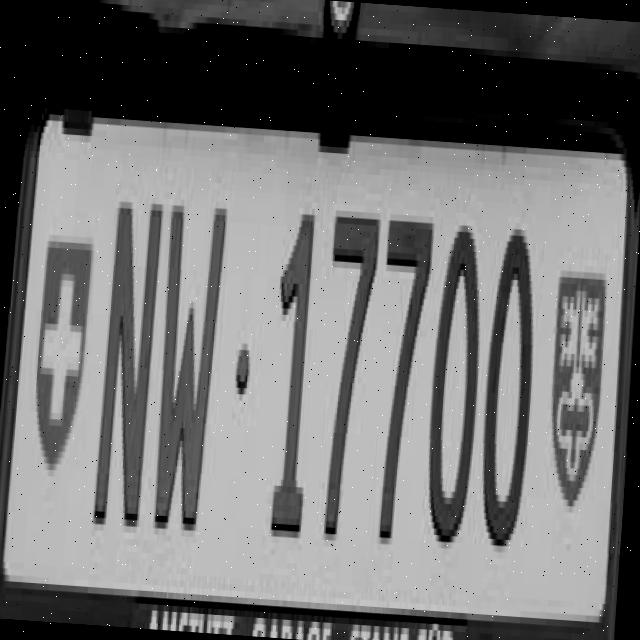Autre: (3, 121, 624, 611)
